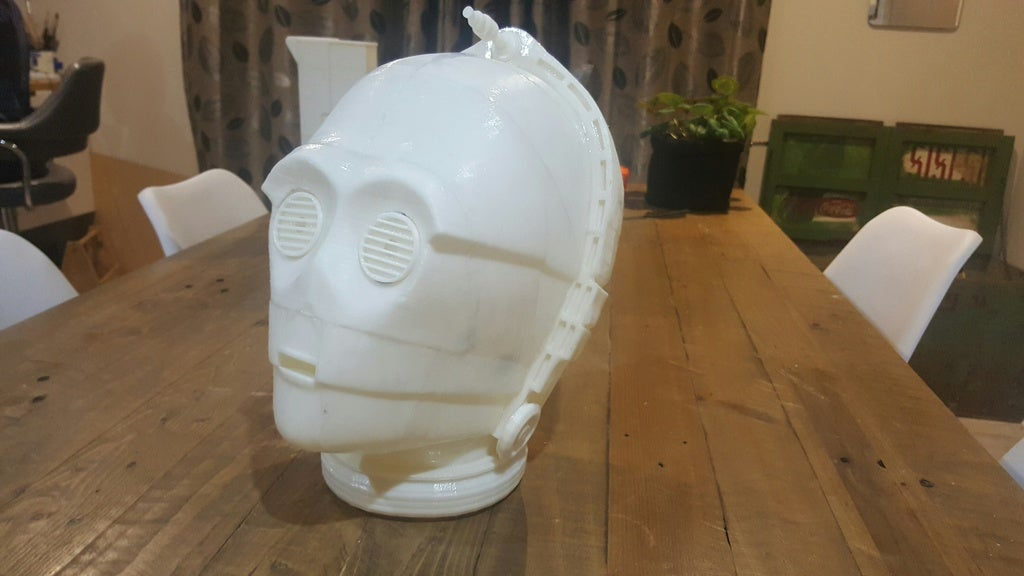Good: (237, 2, 639, 530)
